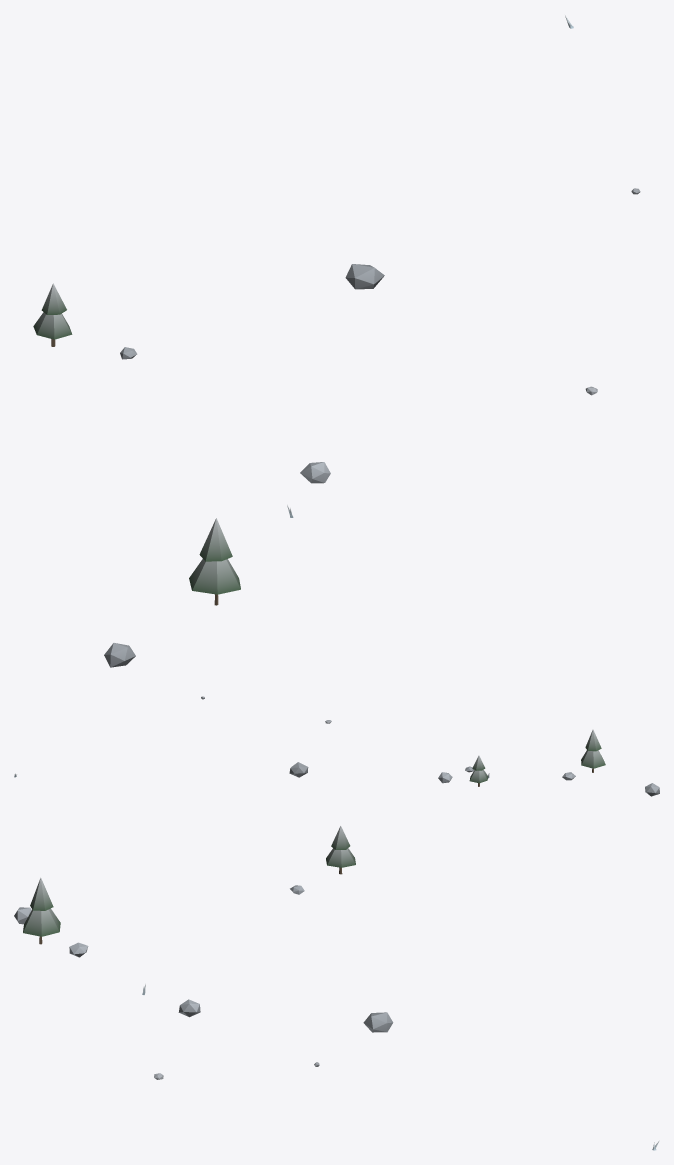
File: frost_land_scatter_c14_13_lod1.glb
The picture shows the model from 3 angles, top to bottom: view 1: azimuth 30°, elevation 25°; view 2: azimuth 150°, elevation 25°; view 3: azimuth 270°, elevation 25°; orthographic projection. The views are drawn at different scales.
Visible parts, largest first — view 1: frost_land_scatter_c14_13_lod1; view 2: frost_land_scatter_c14_13_lod1; view 3: frost_land_scatter_c14_13_lod1.
Part boxes in pixels (<box>): frost_land_scatter_c14_13_lod1: <box>33,15,640,667</box>; frost_land_scatter_c14_13_lod1: <box>14,696,659,796</box>; frost_land_scatter_c14_13_lod1: <box>14,826,659,1150</box>.
Size of the model in its own units: 135 by 28.91 by 112.
